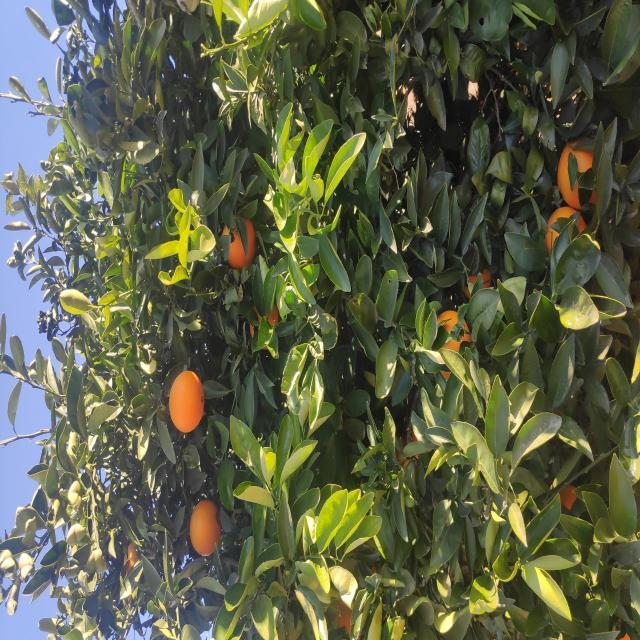Jeruk Sudah Matang: (434, 558, 502, 596), (266, 430, 328, 468), (210, 170, 272, 202), (375, 220, 425, 256), (84, 190, 142, 220), (302, 252, 341, 279), (342, 466, 375, 492), (74, 127, 98, 139), (392, 546, 394, 548)
